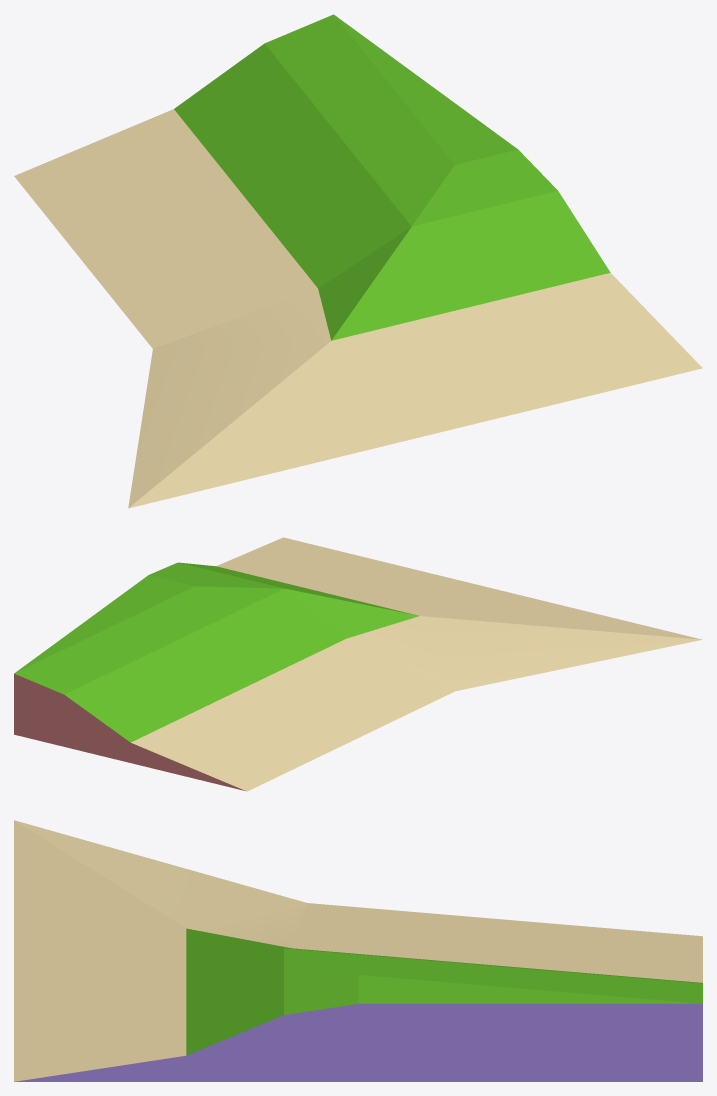
The model's file is Path_Terrain_Y_Curve_Inner_1x2.glb.
The picture shows the model from 3 angles, top to bottom: view 1: azimuth 30°, elevation 25°; view 2: azimuth 150°, elevation 25°; view 3: azimuth 270°, elevation 25°; orthographic projection. The views are drawn at different scales.
Visible parts, largest first — view 1: Path_Terrain_Y_Curve_Inner_1x2; view 2: Path_Terrain_Y_Curve_Inner_1x2; view 3: Path_Terrain_Y_Curve_Inner_1x2.
Boxes of the visible parts, x1,y1,x2,y2 form: Path_Terrain_Y_Curve_Inner_1x2: (14,14,702,508); Path_Terrain_Y_Curve_Inner_1x2: (14,537,702,791); Path_Terrain_Y_Curve_Inner_1x2: (14,820,702,1081).
Bounding box in the file's own units: 180 × 25 × 200.
